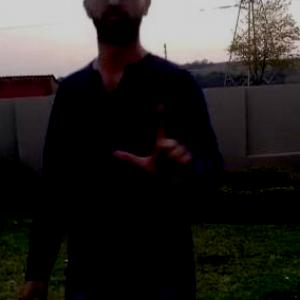land_hand: (111, 94, 209, 192)
